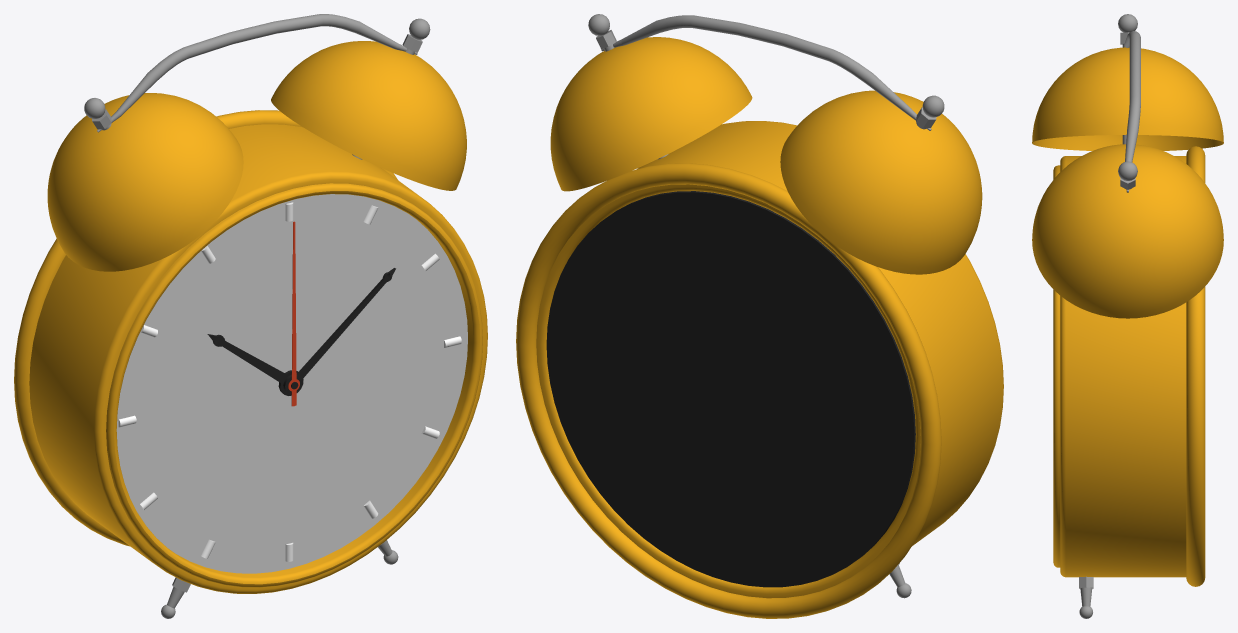
The model's file is clock.obj.
3 views of the same model, side by side, from view 1: azimuth 30°, elevation 25°; view 2: azimuth 150°, elevation 25°; view 3: azimuth 270°, elevation 25° (orthographic). The views are drawn at different scales.
Parts seen in each view (by area): view 1: front_cover, Sphere_1, Tube, Tube.1, Torus, Sweep, minute_hand, Hour_hand, second_hand, Sphere.1; view 2: back_cover, Sphere_1, Tube, Torus, Sweep, Sphere.1; view 3: Sphere_1, Tube, Torus, Tube.1, Sweep, Sphere.1.
Part boxes in pixels (x1,y1,x2,y2): front_cover: [116, 194, 467, 573]; Sphere_1: [47, 41, 466, 271]; Tube: [29, 124, 487, 593]; Tube.1: [106, 183, 482, 587]; Torus: [14, 110, 397, 546]; Sweep: [97, 14, 417, 132]; minute_hand: [283, 268, 395, 393]; Hour_hand: [207, 334, 303, 395]; second_hand: [288, 221, 299, 406]; Sphere.1: [84, 18, 430, 119]; back_cover: [546, 191, 915, 587]; Sphere_1: [550, 37, 982, 274]; Tube: [536, 121, 1003, 598]; Torus: [516, 163, 941, 618]; Sweep: [601, 15, 931, 130]; Sphere.1: [588, 14, 944, 117]; Sphere_1: [1032, 47, 1223, 318]; Tube: [1060, 156, 1186, 577]; Torus: [1186, 146, 1205, 586]; Tube.1: [1053, 165, 1060, 567]; Sweep: [1124, 31, 1140, 192]; Sphere.1: [1118, 14, 1137, 180].
Bounding box in the file's own units: 137 × 173 × 59.54.
